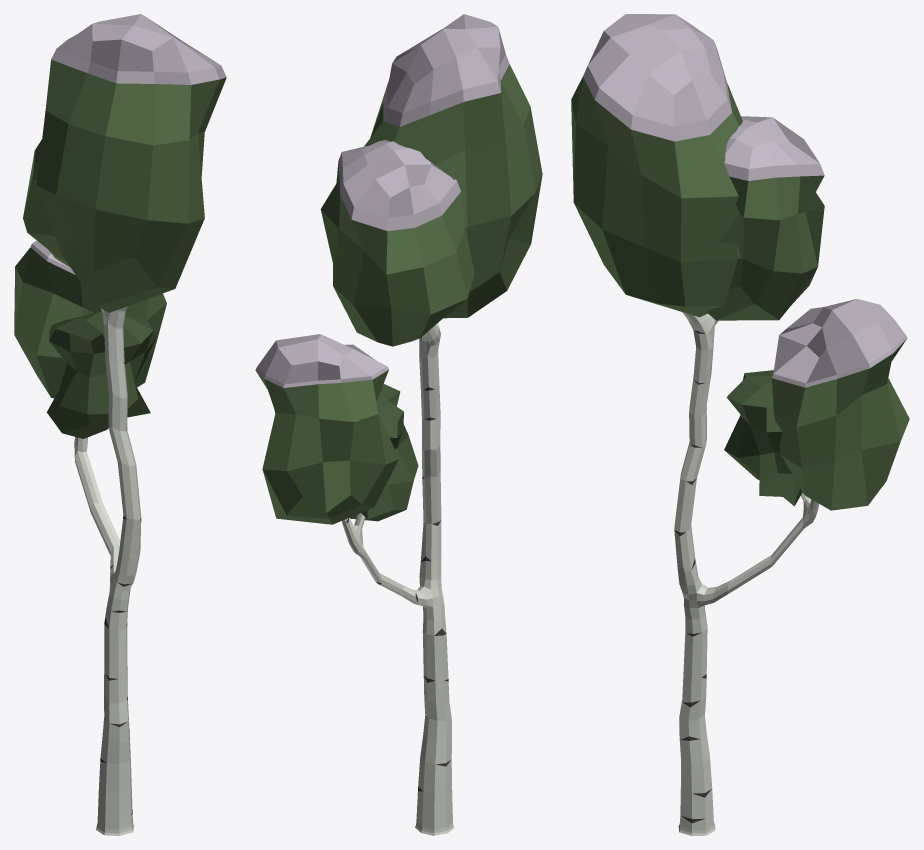
The model's file is birchtree_snow_5.glb.
The picture shows the model from 3 angles, left to right: view 1: azimuth 30°, elevation 25°; view 2: azimuth 150°, elevation 25°; view 3: azimuth 270°, elevation 25°; orthographic projection. The views are drawn at different scales.
Parts seen in each view (by area): view 1: BirchTree_Snow_5; view 2: BirchTree_Snow_5; view 3: BirchTree_Snow_5.
Boxes of the visible parts, x1,y1,x2,y2 form: BirchTree_Snow_5: (14,14,226,835); BirchTree_Snow_5: (255,14,542,835); BirchTree_Snow_5: (571,14,909,835).
Size of the model in its own units: 1.19 by 5.06 by 1.93.
